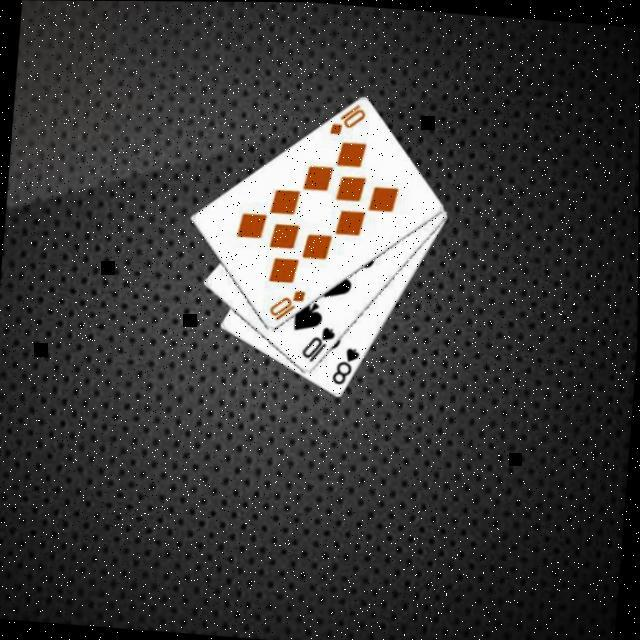10D: (324, 99, 368, 140), (265, 285, 307, 325)
10S: (297, 322, 338, 368)
8S: (328, 344, 362, 389)
